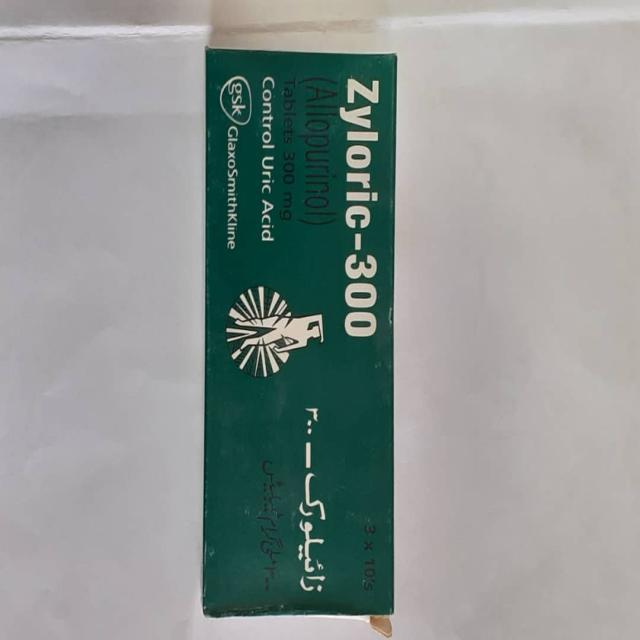drug-name: (338, 73, 384, 342)
